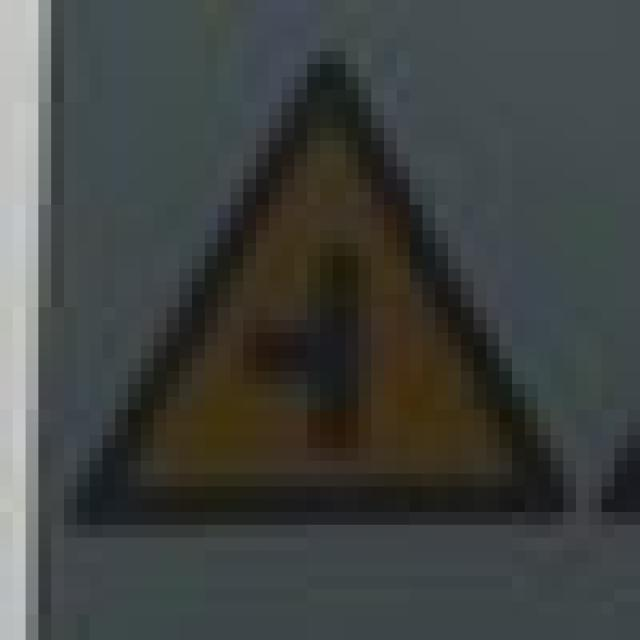side road left: (67, 46, 584, 524)
